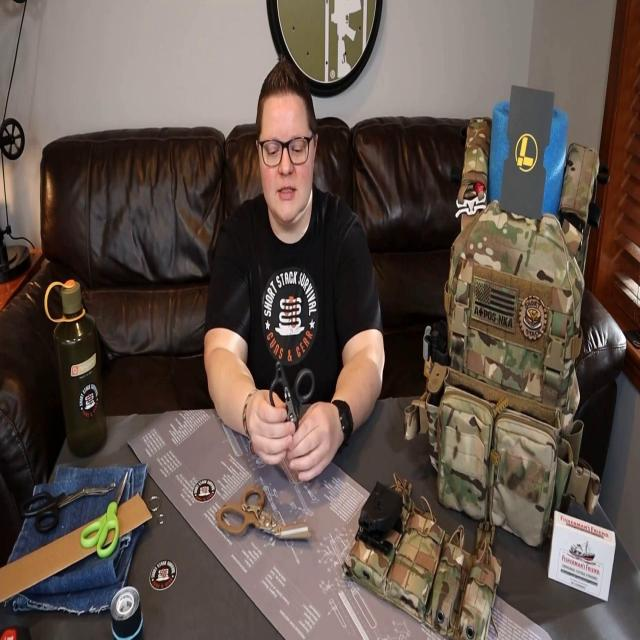scissor: (20, 481, 117, 535), (216, 486, 313, 540), (80, 471, 128, 558), (269, 359, 316, 435)
